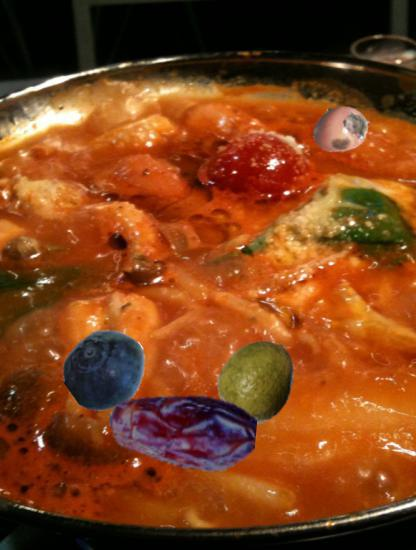Blueberry: (64, 327, 149, 412)
Dates: (109, 358, 256, 505)
Guava: (216, 338, 301, 423)
Kaki: (312, 99, 371, 158)
